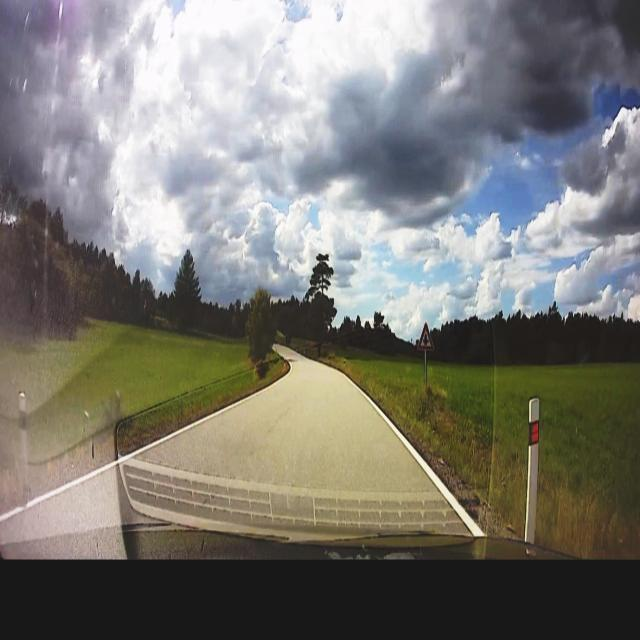Priority road: (416, 320, 434, 350)
